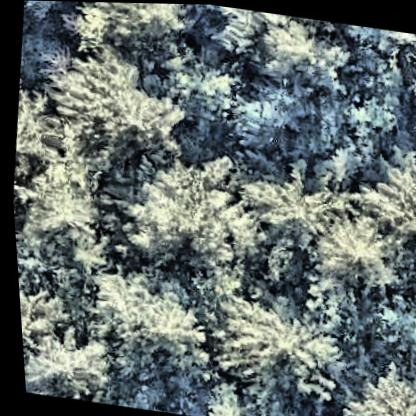tree-top: (116, 150, 268, 298), (46, 51, 194, 189), (78, 264, 213, 388), (204, 292, 347, 400), (240, 160, 340, 256), (255, 19, 350, 103), (307, 204, 396, 292), (21, 169, 108, 257), (17, 326, 112, 403), (63, 1, 198, 55), (325, 355, 416, 416), (172, 51, 245, 120), (7, 98, 62, 187), (224, 88, 296, 153), (357, 155, 416, 230), (208, 4, 272, 61), (15, 288, 49, 364), (22, 0, 66, 21), (408, 38, 416, 75)
